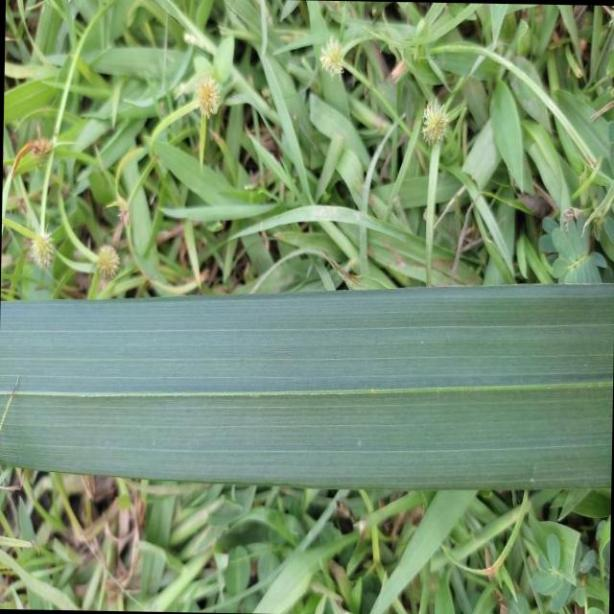Healthy: (0, 283, 614, 499)
